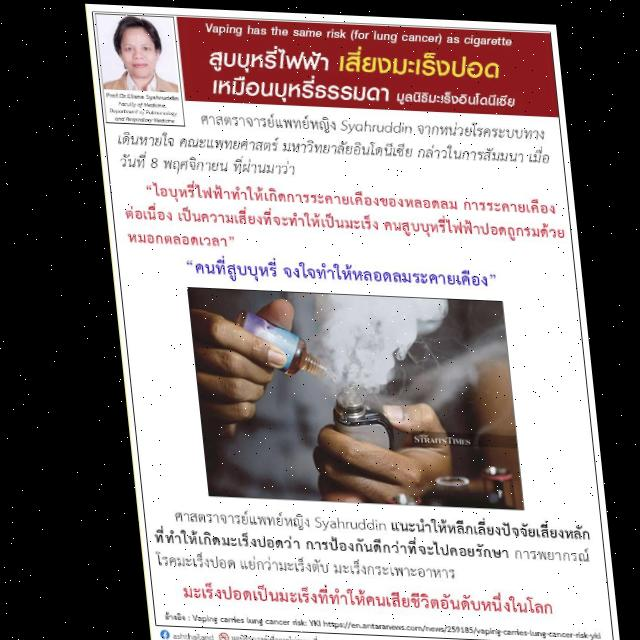vape: (320, 384, 386, 451)
